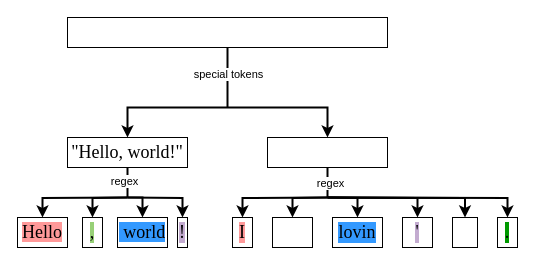
The diagram is 535 pixels wide and 265 high, and some of its shapes have lost their labels. Here are the shapes that lost their labels. From the top down, the centre of each, then its label:
[227,32]: "Hello, world!<|endoftext|>I'm lovin' it."
[327,152]: "I'm lovin' it."
[292,232]: 'm
[465,232]: it
